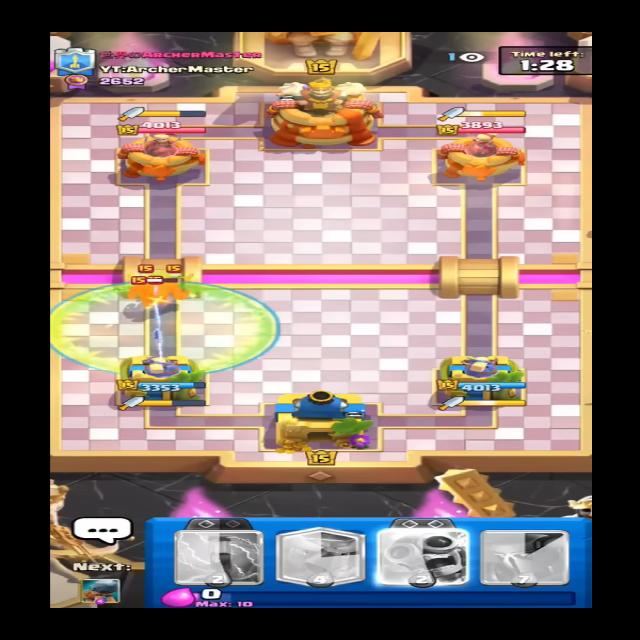knight: (125, 274, 190, 307)
skeleton: (166, 263, 193, 282)
